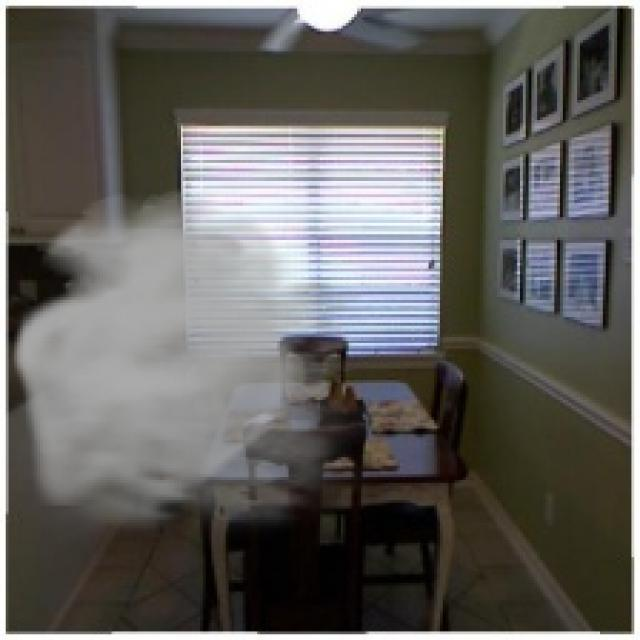smoke: (6, 189, 400, 554)
